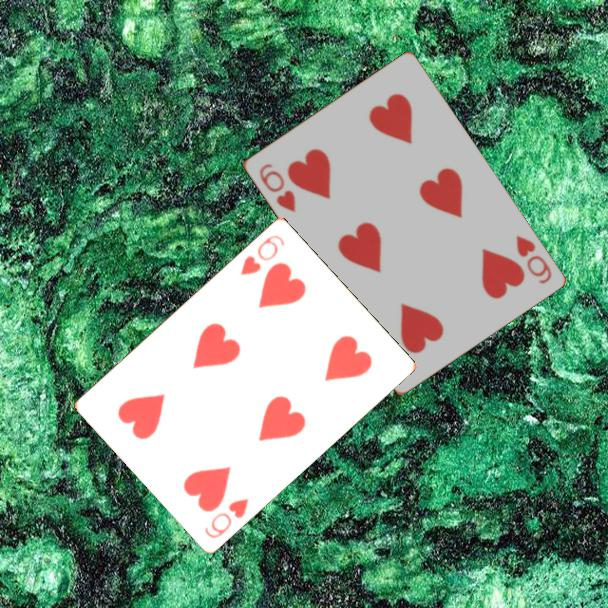h06: (237, 231, 288, 278), (201, 494, 252, 541), (255, 160, 298, 215), (512, 232, 554, 287)
